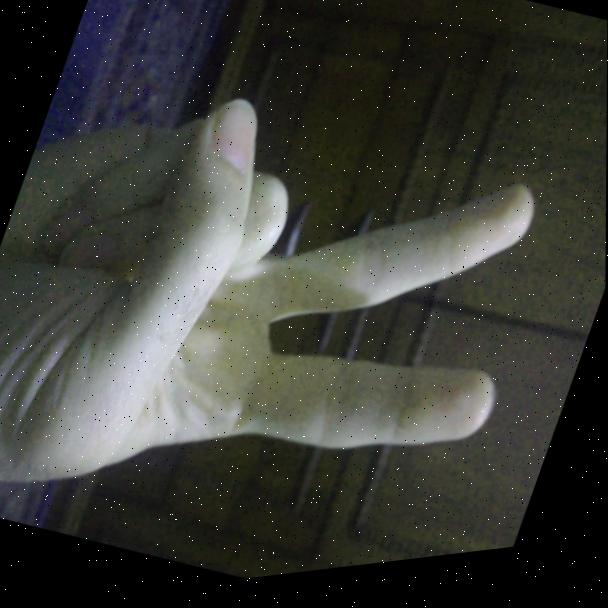two: (0, 0, 598, 603)
